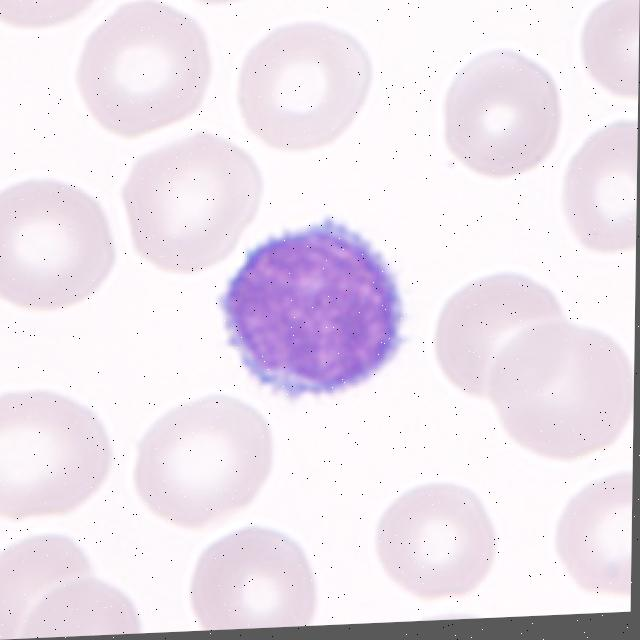lymphocyte: (219, 205, 415, 412)
rbc: (116, 109, 263, 278), (231, 8, 396, 157), (432, 254, 588, 405), (124, 394, 288, 535), (484, 325, 635, 467), (361, 468, 510, 606), (68, 0, 212, 139), (173, 517, 336, 632), (438, 36, 560, 176), (0, 376, 116, 522), (0, 176, 119, 318), (0, 508, 109, 640), (541, 468, 633, 604), (560, 114, 638, 261), (10, 561, 145, 639), (576, 0, 640, 106), (0, 0, 99, 32), (385, 604, 501, 622), (558, 599, 631, 615), (166, 0, 274, 6)
